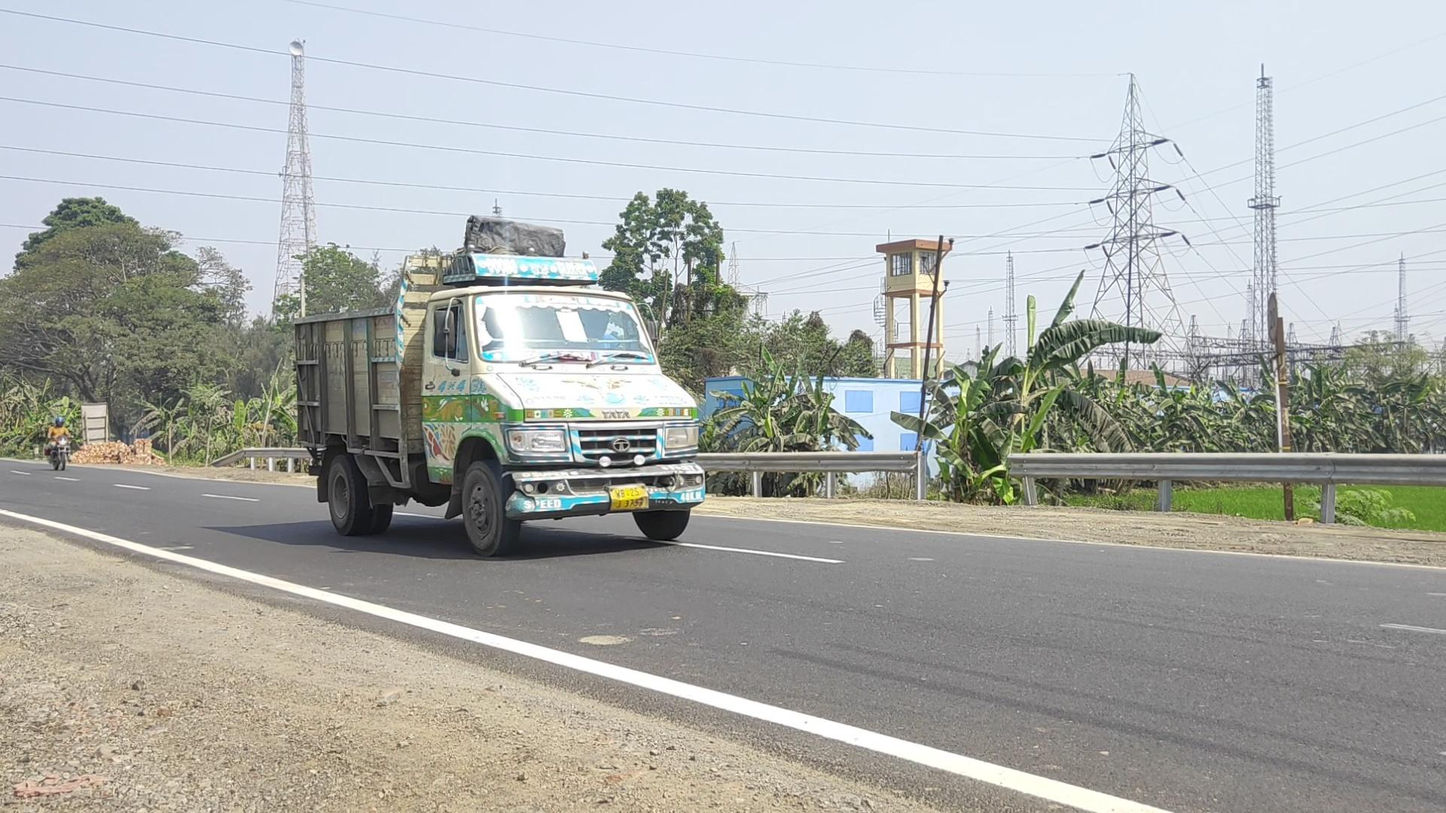bike: (44, 416, 75, 471)
truck: (292, 244, 705, 559)
